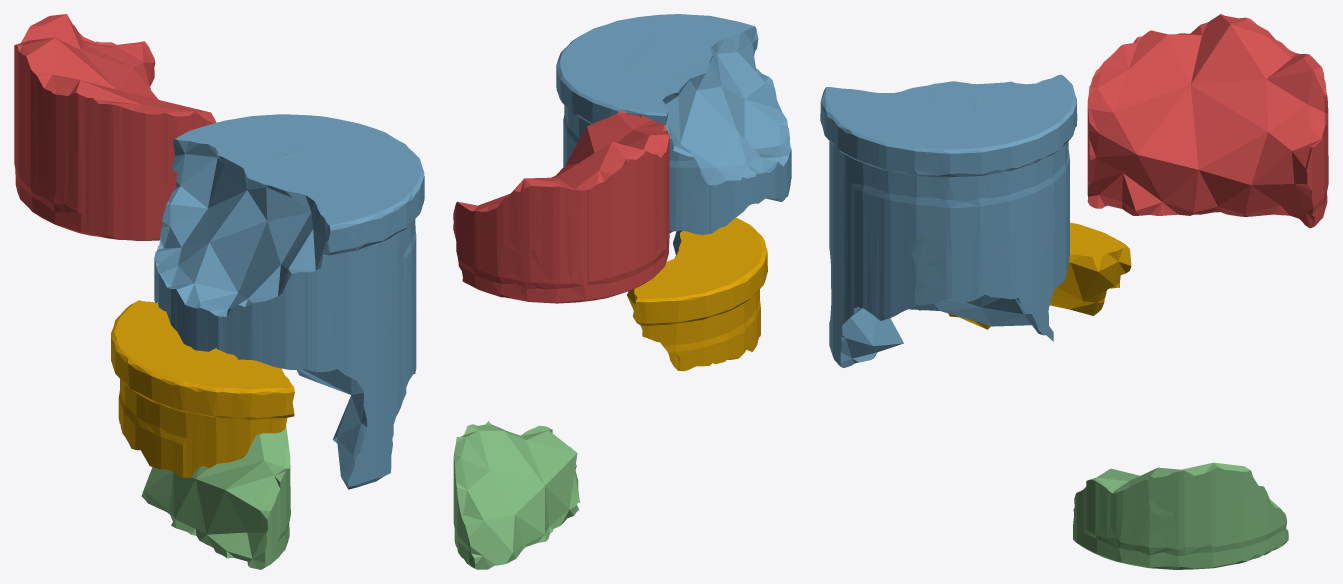
Rendered from mode_5_4pcs_transformed.glb.
The picture shows the model from 3 angles, left to right: view 1: azimuth 30°, elevation 25°; view 2: azimuth 150°, elevation 25°; view 3: azimuth 270°, elevation 25°; orthographic projection. The views are drawn at different scales.
Visible parts, largest first — view 1: piece_2.obj, piece_1.obj, piece_0.obj, piece_3.obj; view 2: piece_2.obj, piece_1.obj, piece_3.obj, piece_0.obj; view 3: piece_2.obj, piece_1.obj, piece_3.obj, piece_0.obj.
Boxes of the visible parts, x1=… form: piece_2.obj: x1=154, y1=114, x2=424, y2=489; piece_1.obj: x1=14, y1=14, x2=216, y2=240; piece_0.obj: x1=111, y1=300, x2=294, y2=477; piece_3.obj: x1=141, y1=426, x2=290, y2=569; piece_2.obj: x1=556, y1=14, x2=791, y2=254; piece_1.obj: x1=453, y1=110, x2=669, y2=303; piece_3.obj: x1=453, y1=421, x2=580, y2=569; piece_0.obj: x1=627, y1=217, x2=767, y2=371; piece_2.obj: x1=820, y1=74, x2=1077, y2=367; piece_1.obj: x1=1087, y1=14, x2=1328, y2=228; piece_3.obj: x1=1073, y1=462, x2=1288, y2=569; piece_0.obj: x1=919, y1=222, x2=1131, y2=329.
Size of the model in its own units: 0.9259 by 1.84 by 1.83.
